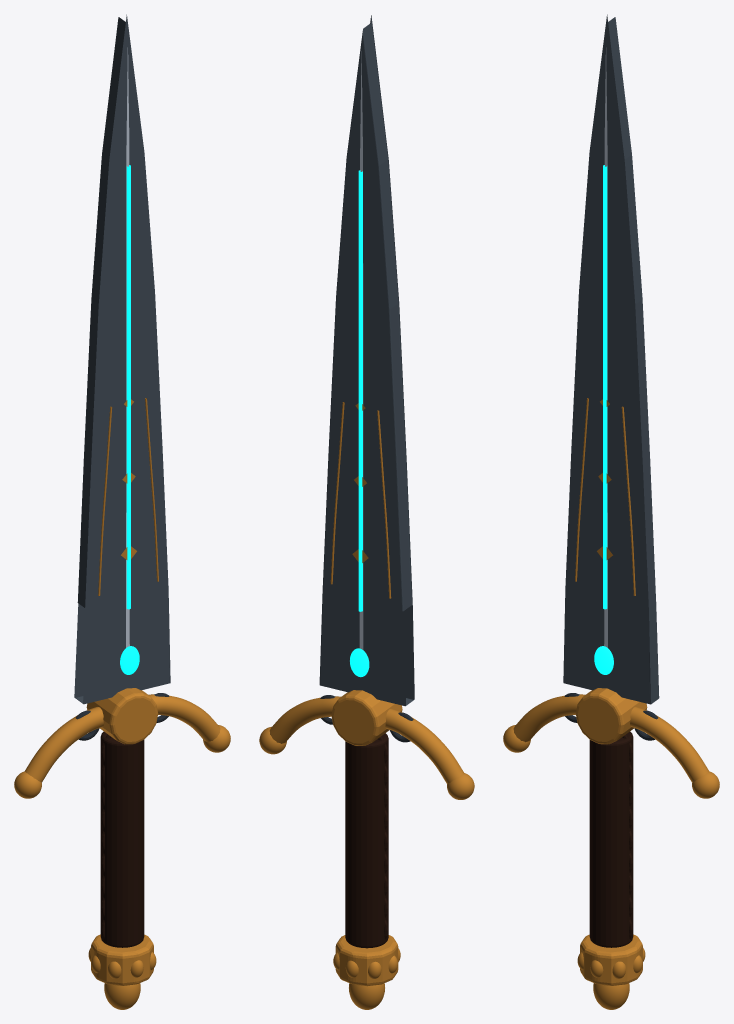
File: Sword1.fbx
The picture shows the model from 3 angles, left to right: view 1: azimuth 30°, elevation 25°; view 2: azimuth 150°, elevation 25°; view 3: azimuth 330°, elevation 25°; orthographic projection.
Visible parts, largest first — view 1: Blade_Main, Leather_Grip, Guard_Center, Magic_Channel_Front, Crown_Pommel, Curved_Quillon, Curved_Quillon.001, Blade_Ridge_Front, Pommel_Finial, Guard_End_Orb, Blade_Engraving, Blade_Engraving.001; view 2: Blade_Main, Leather_Grip, Guard_Center, Magic_Channel_Back, Crown_Pommel, Curved_Quillon, Curved_Quillon.001, Blade_Ridge_Back, Pommel_Finial, Guard_End_Orb, Blade_Engraving.002, Blade_Engraving.003; view 3: Blade_Main, Leather_Grip, Guard_Center, Magic_Channel_Front, Crown_Pommel, Curved_Quillon.001, Curved_Quillon, Blade_Ridge_Front, Pommel_Finial, Guard_End_Orb.001, Blade_Engraving.001, Blade_Engraving.
Boxes of the visible parts, x1,y1,x2,y2 form: Blade_Main: [74, 14, 170, 704]; Leather_Grip: [100, 731, 144, 947]; Guard_Center: [86, 688, 158, 744]; Magic_Channel_Front: [126, 165, 130, 609]; Crown_Pommel: [91, 934, 153, 985]; Curved_Quillon: [24, 707, 103, 782]; Curved_Quillon.001: [148, 694, 220, 742]; Blade_Ridge_Front: [126, 47, 129, 647]; Pommel_Finial: [104, 983, 140, 1009]; Guard_End_Orb: [14, 771, 41, 798]; Blade_Engraving: [98, 406, 112, 595]; Blade_Engraving.001: [145, 398, 158, 581]; Blade_Main: [319, 15, 414, 706]; Leather_Grip: [345, 733, 388, 948]; Guard_Center: [331, 690, 402, 745]; Magic_Channel_Back: [358, 170, 362, 611]; Crown_Pommel: [335, 935, 398, 986]; Curved_Quillon: [385, 708, 463, 784]; Curved_Quillon.001: [269, 696, 340, 743]; Blade_Ridge_Back: [359, 51, 363, 649]; Pommel_Finial: [349, 983, 384, 1009]; Guard_End_Orb: [447, 773, 474, 799]; Blade_Engraving.002: [377, 410, 391, 598]; Blade_Engraving.003: [330, 402, 344, 584]; Blade_Main: [563, 14, 659, 704]; Leather_Grip: [589, 731, 633, 947]; Guard_Center: [575, 688, 647, 744]; Magic_Channel_Front: [603, 165, 607, 609]; Crown_Pommel: [580, 934, 642, 985]; Curved_Quillon.001: [630, 707, 709, 782]; Curved_Quillon: [513, 694, 585, 742]; Blade_Ridge_Front: [604, 47, 607, 647]; Pommel_Finial: [593, 983, 629, 1009]; Guard_End_Orb.001: [692, 771, 719, 798]; Blade_Engraving.001: [621, 406, 635, 595]; Blade_Engraving: [575, 398, 588, 581].
Bounding box in the file's own units: 282 × 1263 × 80.
